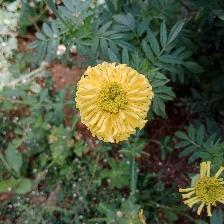marigold: (74, 62, 158, 147)
